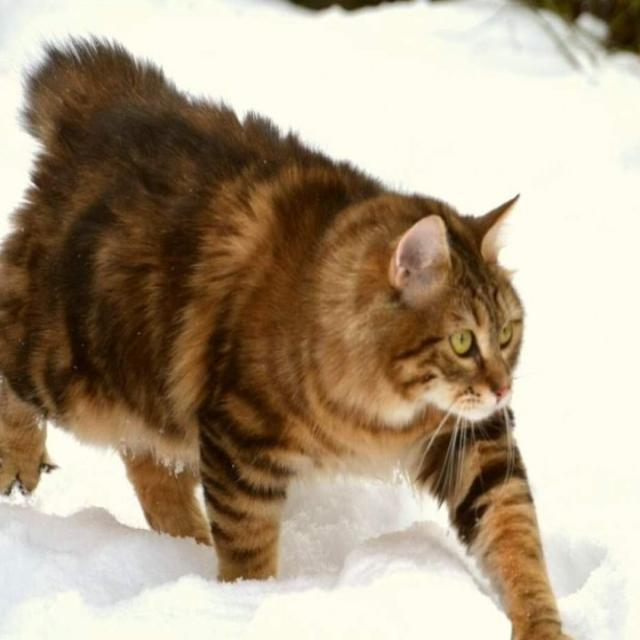American Bobtail: (0, 33, 594, 640)
